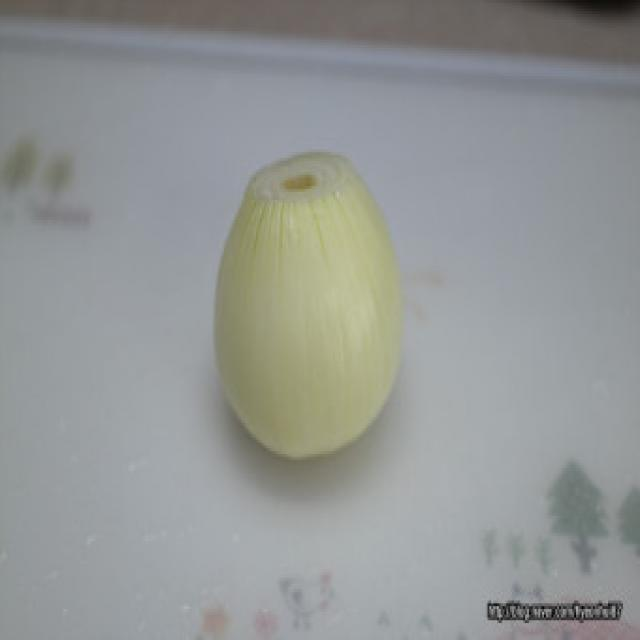onion: (206, 134, 411, 510)
